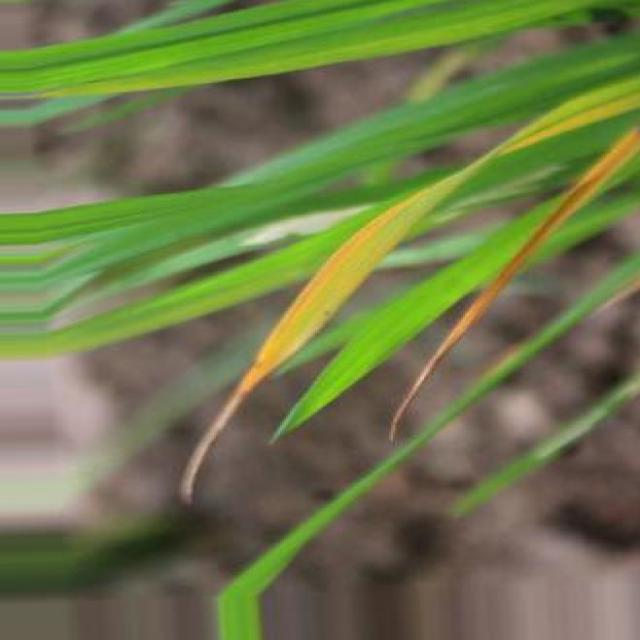Rice Tungro: (180, 151, 493, 504), (390, 129, 638, 441)
